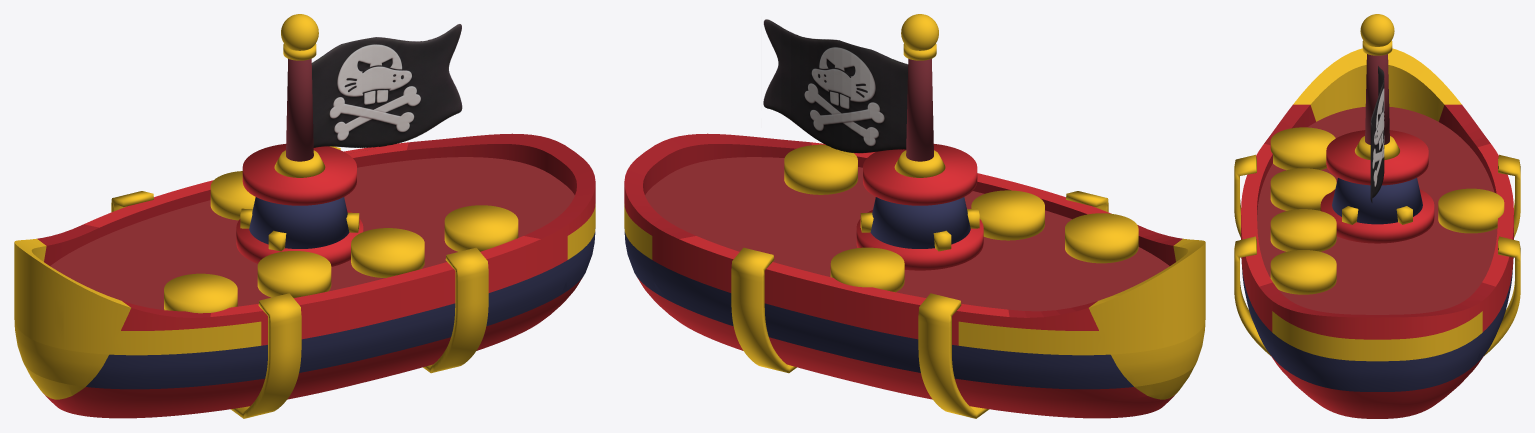
File: hull-cannon.glb
3 views of the same model, side by side, from view 1: azimuth 30°, elevation 25°; view 2: azimuth 150°, elevation 25°; view 3: azimuth 270°, elevation 25° (orthographic). The views are drawn at different scales.
Visible parts, largest first — view 1: hull, Grid; view 2: hull, Grid; view 3: hull, Grid.
Part boxes in pixels (x1,y1,x2,y2): hull: [14, 14, 595, 418]; Grid: [311, 24, 462, 147]; hull: [624, 14, 1205, 418]; Grid: [763, 19, 908, 153]; hull: [1234, 14, 1520, 418]; Grid: [1370, 66, 1384, 202].
Size of the model in its own units: 1 by 0.5874 by 0.504.
2 materials, 2 textured.
